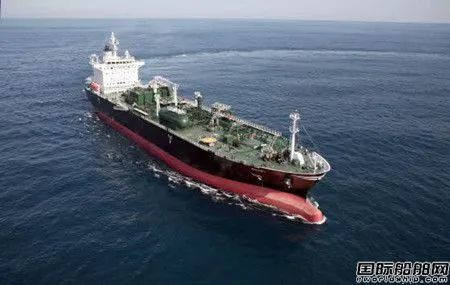Cargoship: (83, 27, 335, 227)
